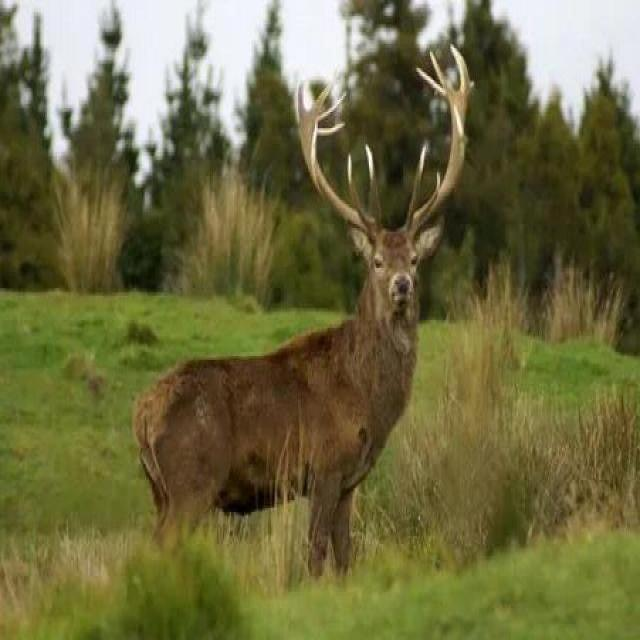deer: (124, 41, 488, 588)
